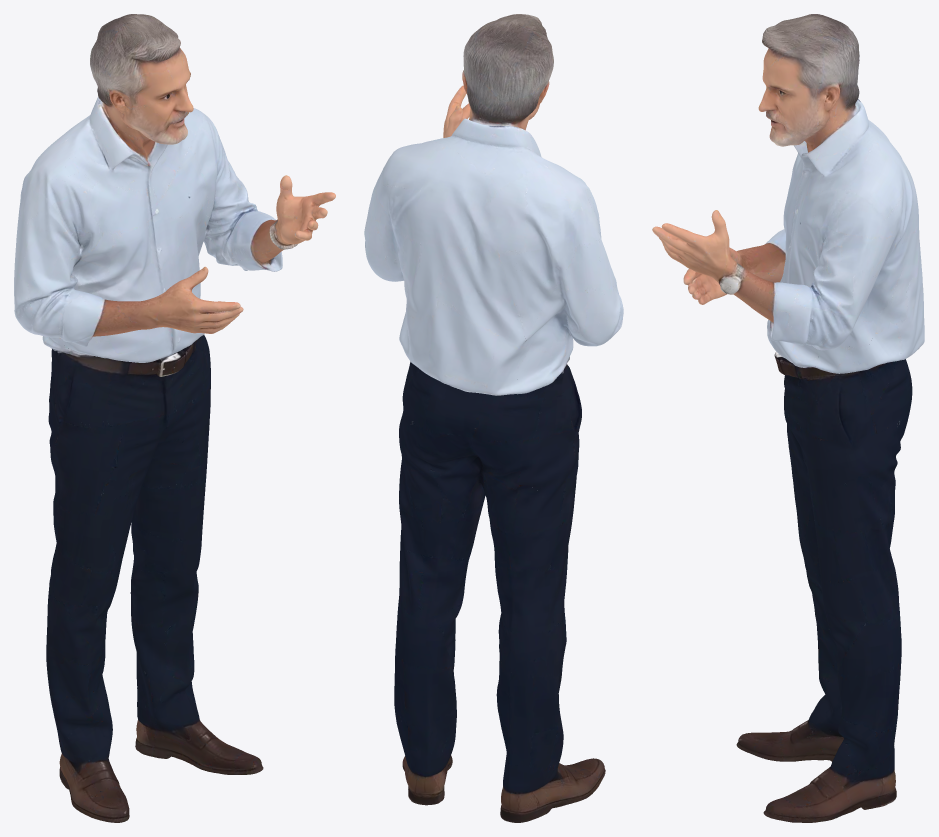
Rendered from confident_presenter.glb.
3 views of the same model, side by side, from view 1: azimuth 30°, elevation 25°; view 2: azimuth 150°, elevation 25°; view 3: azimuth 270°, elevation 25° (orthographic).
Parts seen in each view (by area): view 1: Object_5, Object_6; view 2: Object_6, Object_5; view 3: Object_6, Object_5.
Part boxes in pixels (<box>): Object_5: <box>14,16,335,822</box>; Object_6: <box>14,14,257,801</box>; Object_6: <box>364,23,619,822</box>; Object_5: <box>367,14,623,807</box>; Object_6: <box>779,14,924,822</box>; Object_5: <box>652,14,894,822</box>.
Size of the model in its own units: 0.6517 by 1.9 by 0.6172.
1 material, 1 textured.
